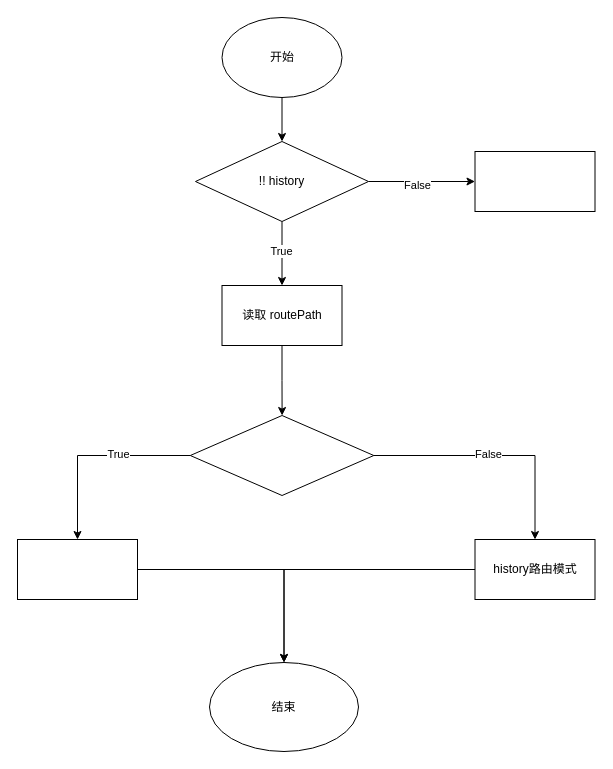
This 613x769 diagram has some shape labels left out. Here are the shapes that lost their labels. From the top down, the centre of each, then its label:
At point (534, 181): "无路由模式".
At point (281, 455): "location.hash包含 routePath？".
At point (77, 569): "哈希路由模式".
